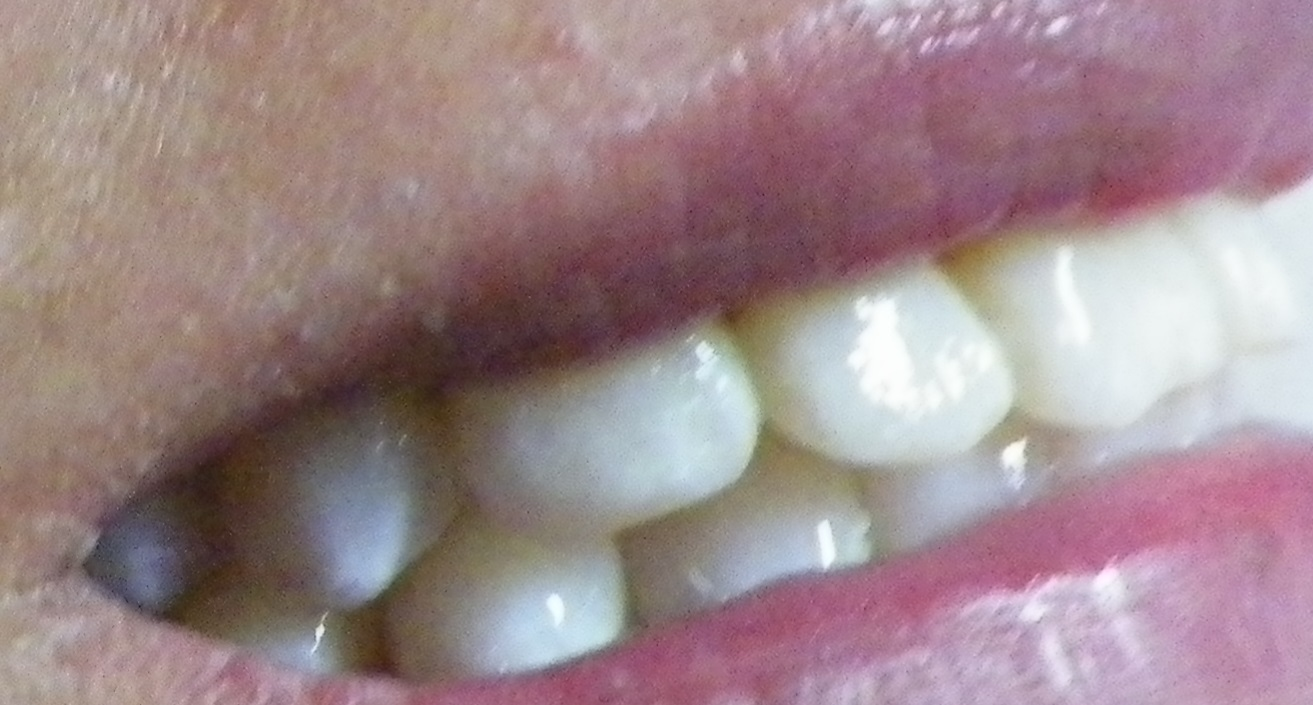boca: (125, 191, 1290, 672)
